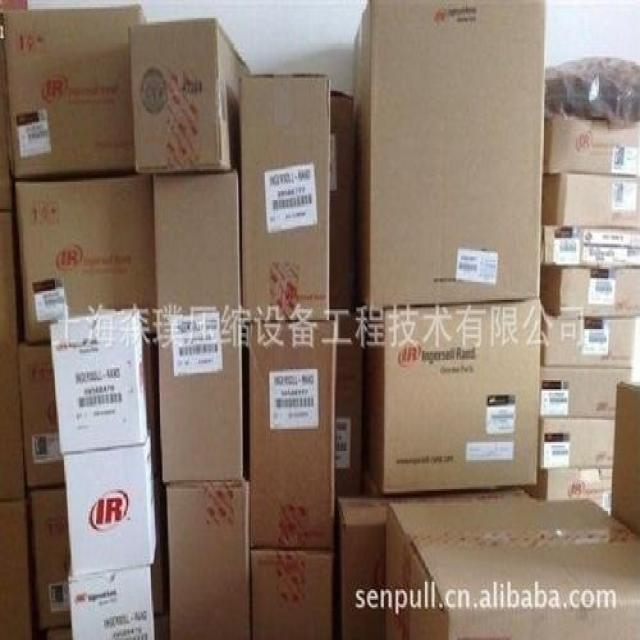box: (354, 0, 546, 310), (354, 293, 541, 494), (385, 498, 638, 638), (335, 487, 535, 638), (153, 171, 243, 482), (3, 4, 144, 178), (15, 175, 156, 342), (239, 73, 330, 321), (249, 321, 336, 549), (128, 18, 253, 171), (63, 421, 161, 576), (49, 311, 154, 455), (167, 482, 250, 638), (67, 527, 166, 638), (0, 212, 26, 500), (251, 550, 333, 638), (18, 341, 65, 488), (328, 311, 364, 497), (540, 300, 637, 368), (30, 488, 71, 630), (328, 89, 354, 311), (543, 116, 638, 176), (539, 362, 632, 419), (540, 265, 639, 318), (541, 175, 638, 227), (522, 465, 613, 515), (0, 498, 32, 638), (612, 382, 639, 536), (540, 225, 638, 266), (538, 419, 615, 469)
